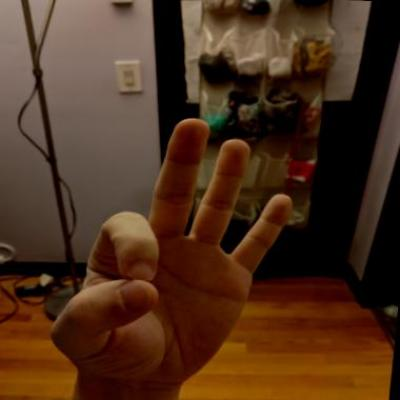hand: (39, 104, 306, 399)
